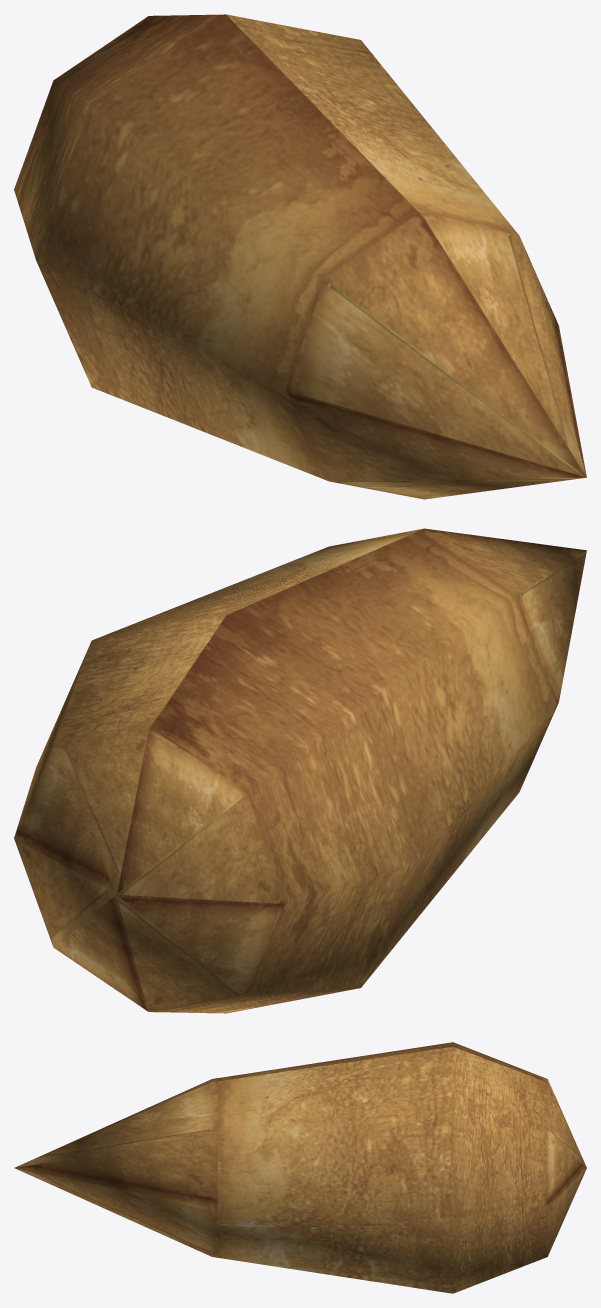
File: Bullet.fbx
3 views of the same model, one above another, from view 1: azimuth 30°, elevation 25°; view 2: azimuth 150°, elevation 25°; view 3: azimuth 270°, elevation 25° (orthographic). The views are drawn at different scales.
Visible parts, largest first — view 1: Sphere001; view 2: Sphere001; view 3: Sphere001.
Part boxes in pixels (bbox=[...]): Sphere001: bbox=[14, 14, 586, 499]; Sphere001: bbox=[14, 528, 586, 1013]; Sphere001: bbox=[14, 1042, 586, 1293].
Bounding box in the file's own units: 0.0614 × 0.0614 × 0.1314.
